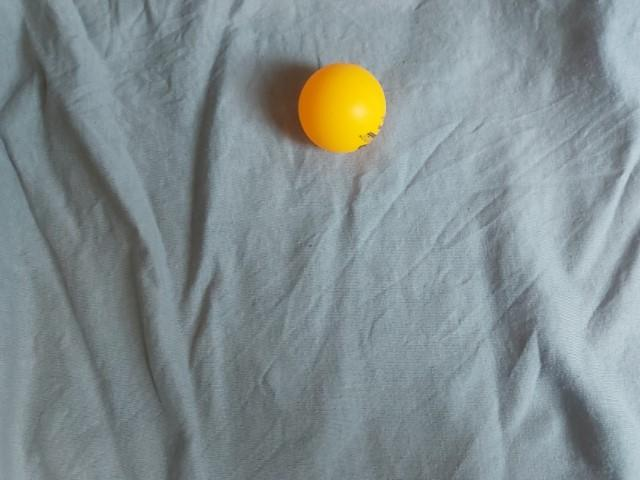oball: (247, 321, 352, 423)
